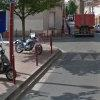Motorcycle: (14, 30, 49, 60)
